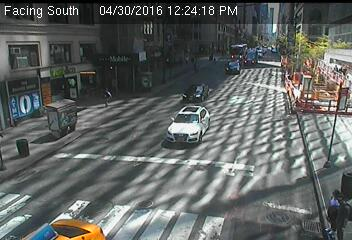neg: (112, 134, 137, 168), (239, 151, 262, 183), (178, 88, 197, 113), (13, 132, 29, 154), (65, 198, 79, 217), (273, 83, 284, 98), (196, 52, 207, 67), (231, 56, 241, 68), (330, 61, 338, 71)
pos: (316, 187, 350, 233), (326, 194, 351, 237), (98, 87, 114, 108)
